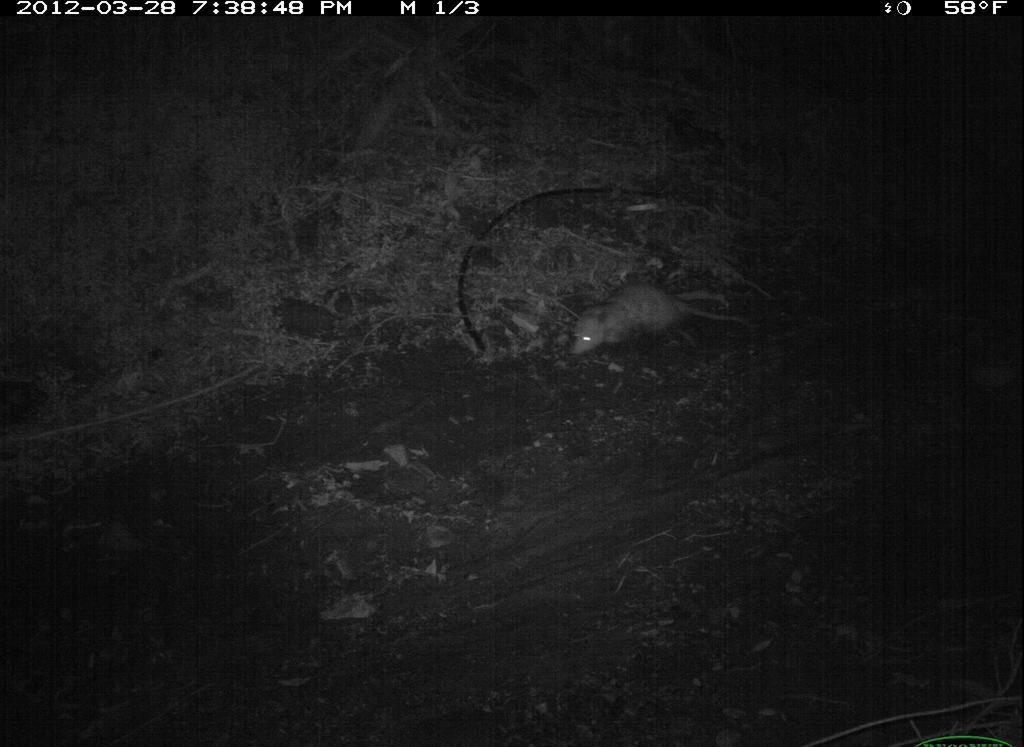opossum: (553, 274, 760, 374)
